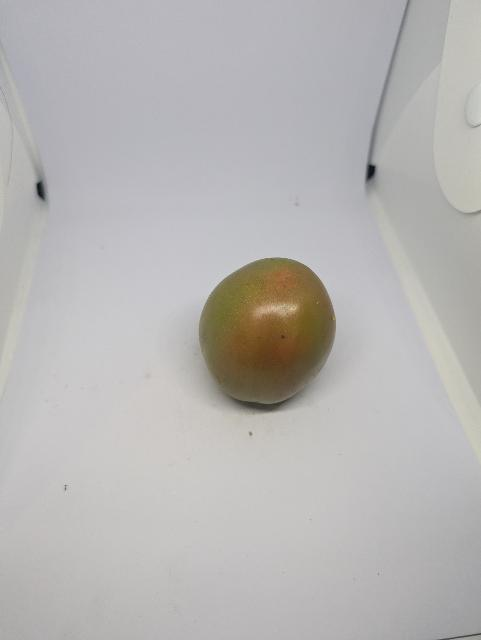breaker: (192, 253, 342, 411)
